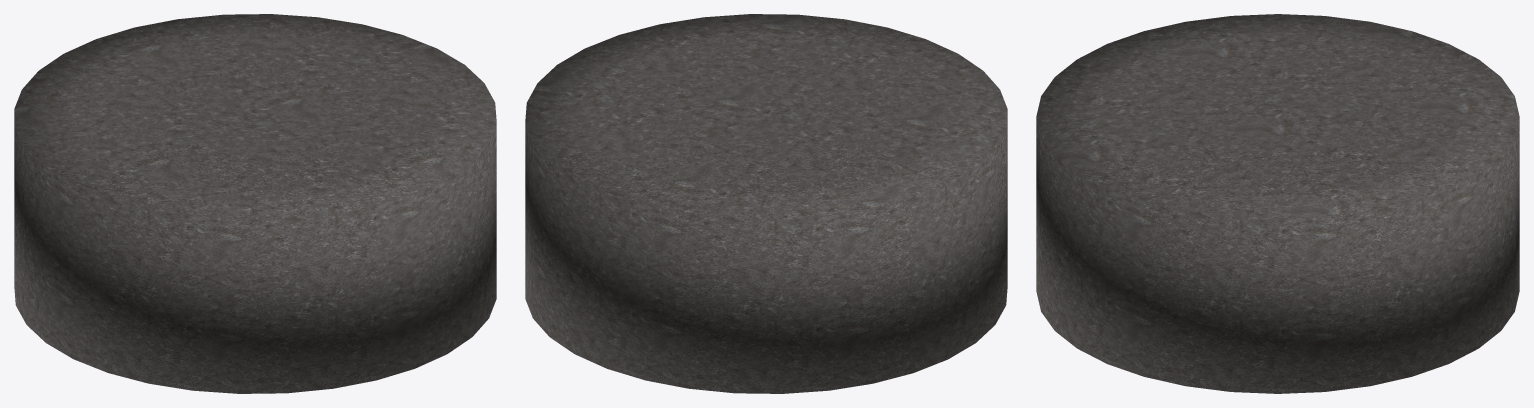
Rendered from StomachPlatform.fbx.
The picture shows the model from 3 angles, left to right: view 1: azimuth 30°, elevation 25°; view 2: azimuth 150°, elevation 25°; view 3: azimuth 270°, elevation 25°; orthographic projection.
Parts seen in each view (by area): view 1: StomachPlatform; view 2: StomachPlatform; view 3: StomachPlatform.
Boxes of the visible parts, x1,y1,x2,y2 form: StomachPlatform: (14, 14, 496, 393); StomachPlatform: (525, 14, 1007, 393); StomachPlatform: (1036, 14, 1519, 393).
Size of the model in its own units: 637 by 262 by 637.
